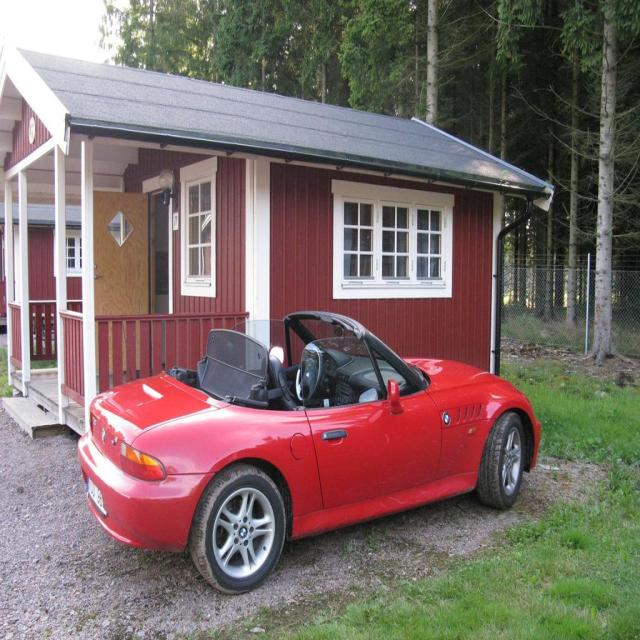car: (77, 320, 532, 592)
